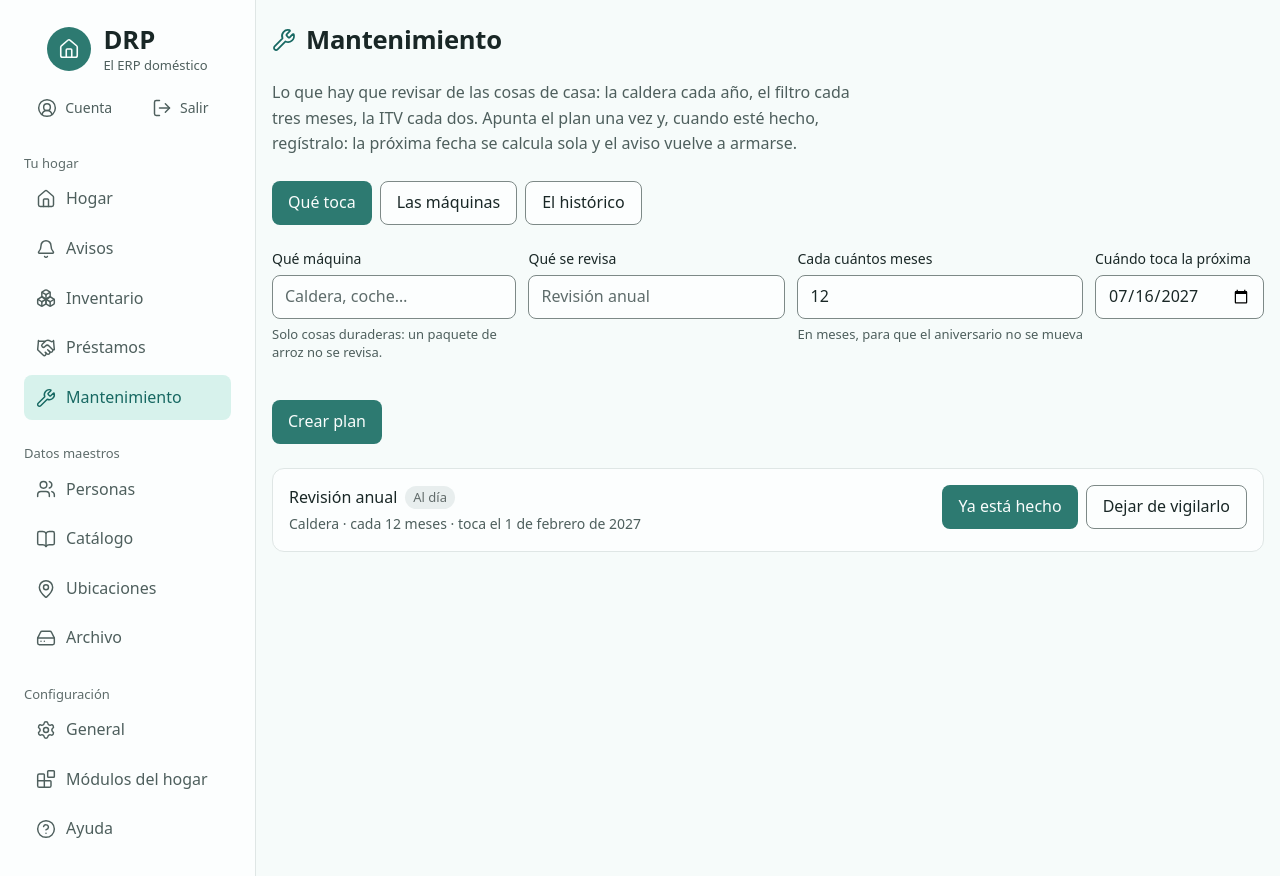
Test case: los planes › el día que se propone y el máximo del campo son los del hogar
The width and height of the screenshot is (1280, 876).
Expected: the heading "Mantenimiento" is shown, [306,24,502,56]
Click the button "Ya está hecho". click: click(1010, 507)
box: [942,485,1078,529]
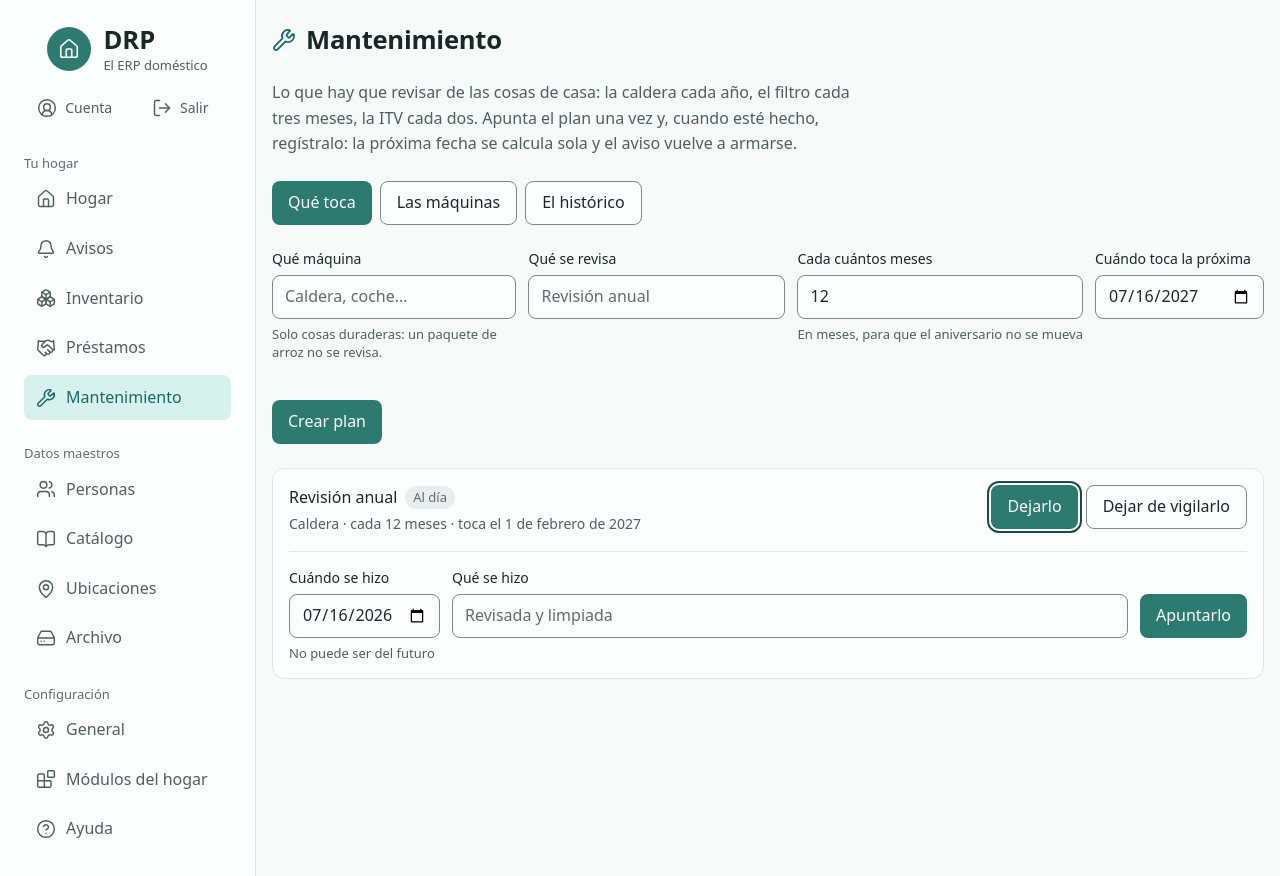
Expected: the date field labelled "Cuándo se hizo" holds "2026-07-16", [289,594,440,638]
